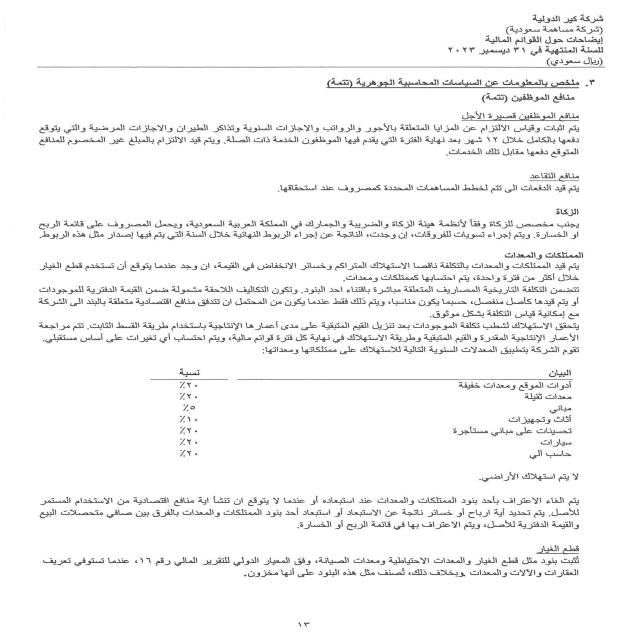notes: (484, 34, 612, 44)
text: (24, 75, 604, 606)
